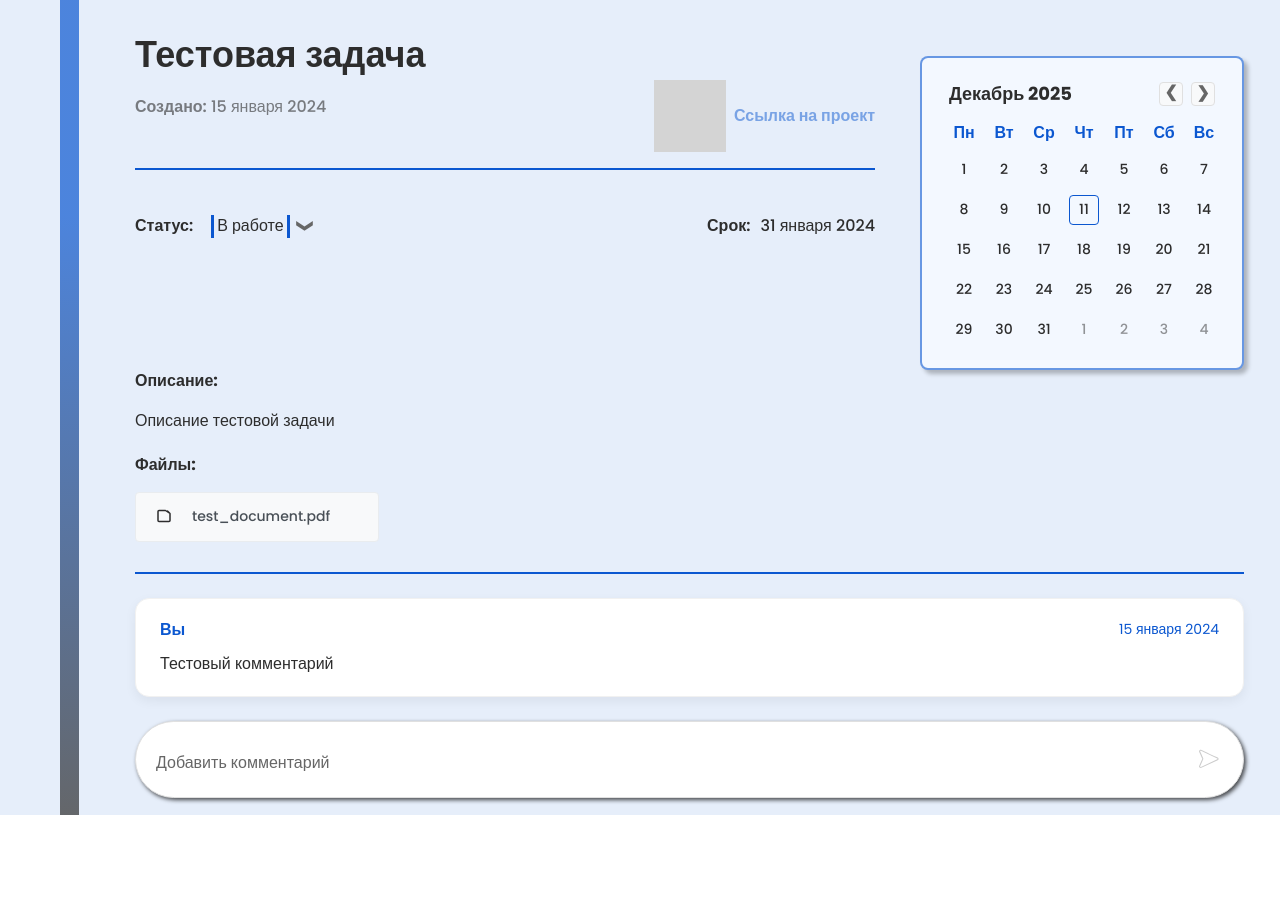
it: TaskInfo Component › Manager actions › should allow status change for task executor
The width and height of the screenshot is (1280, 900).
Click the element with test id "toggle-dropdown-btn". click: (261, 227)
box: [203, 211, 319, 242]
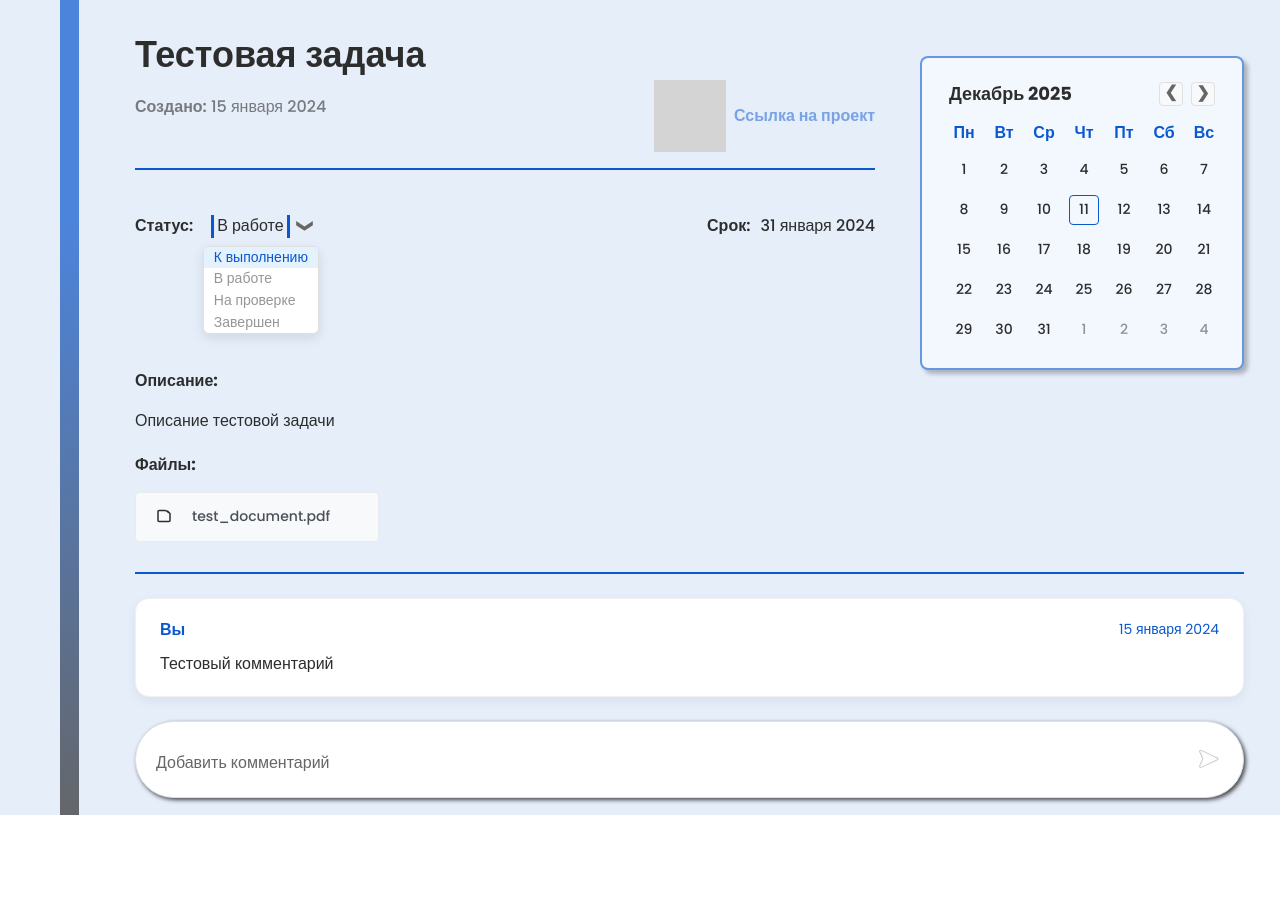
Now the element with test id "status-dropdown" that starts with "К выполнению" is shown, box [203, 246, 319, 334]
